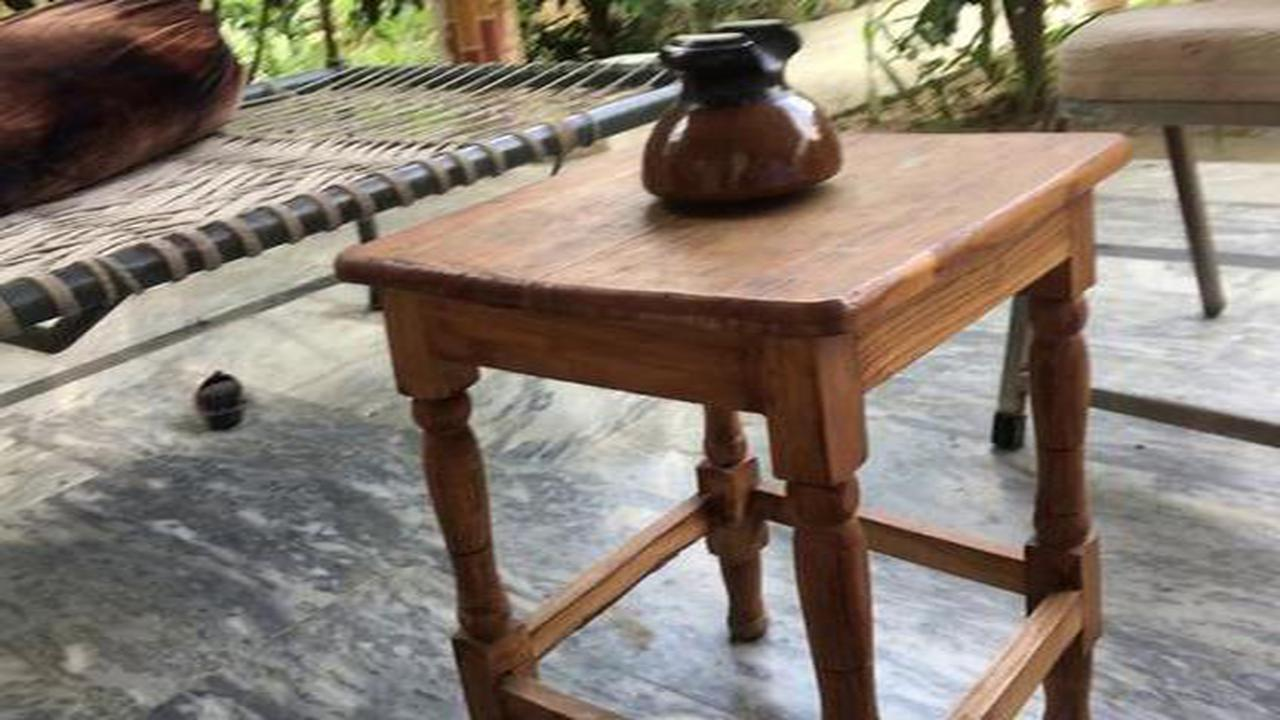insulator_pin: (622, 14, 884, 224)
